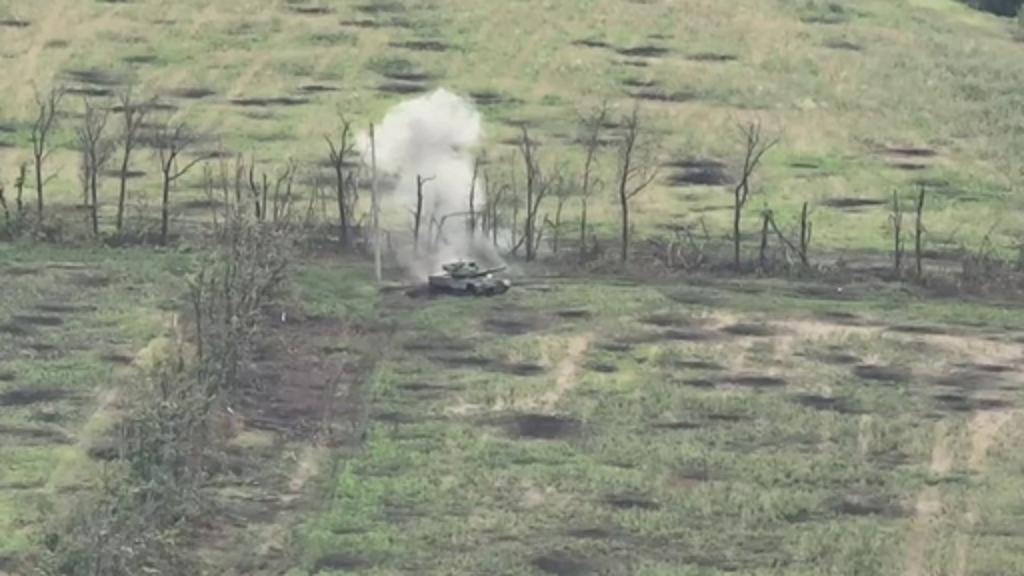TANK: (422, 254, 514, 296)
